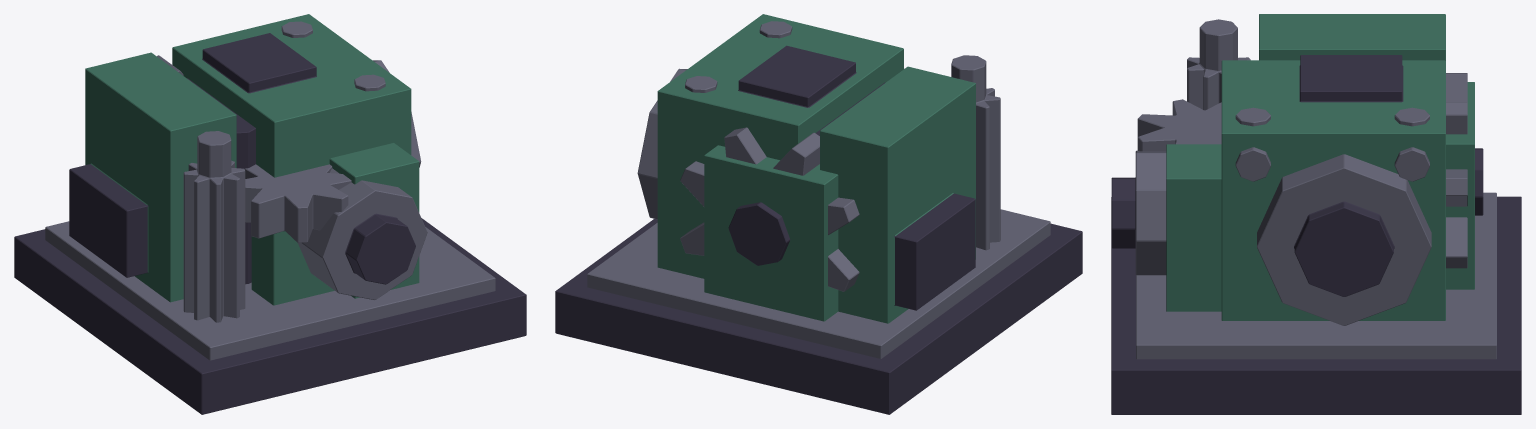
The model's file is StartBuilding.fbx.
3 views of the same model, side by side, from view 1: azimuth 30°, elevation 25°; view 2: azimuth 150°, elevation 25°; view 3: azimuth 270°, elevation 25° (orthographic). The views are drawn at different scales.
Parts seen in each view (by area): view 1: StartBuilding; view 2: StartBuilding; view 3: StartBuilding.
Boxes of the visible parts, left/top/right/bottom form: StartBuilding: left=14, top=14, right=526, bottom=414; StartBuilding: left=555, top=14, right=1082, bottom=414; StartBuilding: left=1111, top=14, right=1521, bottom=414.
Bounding box in the file's own units: 79.63 × 55.27 × 79.63.
